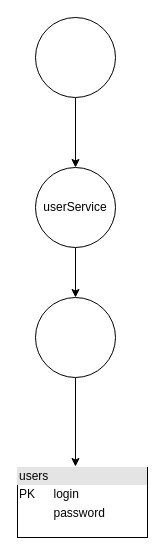
Some shapes in this 165 by 555 pixel diagram are drawn without their labels. Here are the shapes that lost their labels. From the top down, the box of each, then its label:
(34, 16, 116, 98): APIService
(34, 296, 116, 378): userStorage
